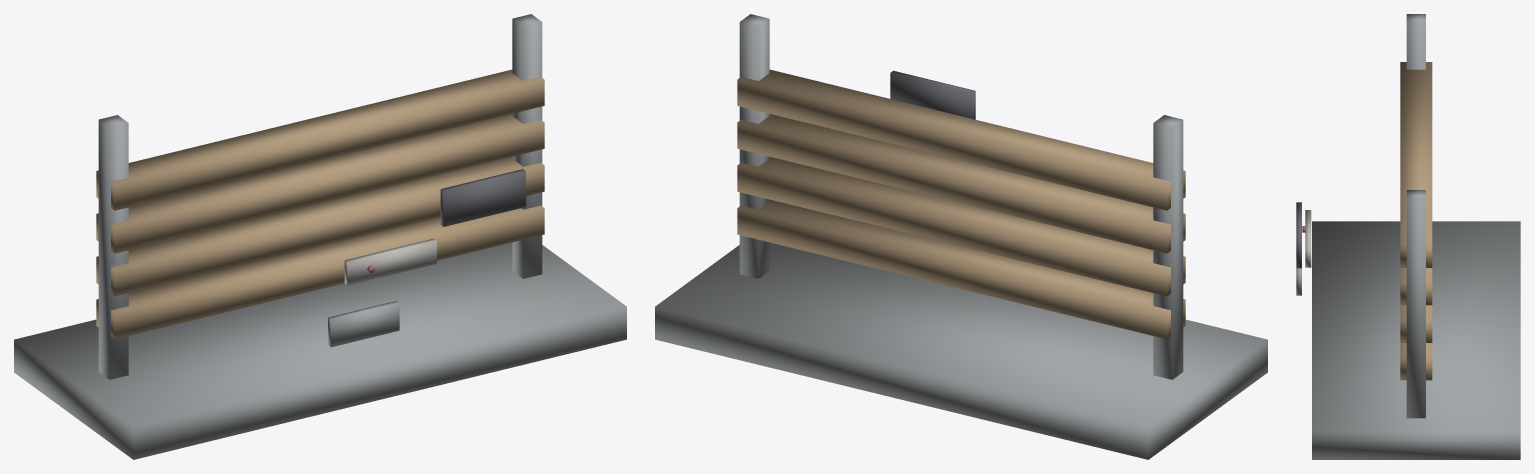
Rendered from lumber_cart__weathered.glb.
3 views of the same model, side by side, from view 1: azimuth 30°, elevation 25°; view 2: azimuth 150°, elevation 25°; view 3: azimuth 270°, elevation 25° (orthographic). The views are drawn at different scales.
Parts seen in each view (by area): view 1: world; view 2: world; view 3: world.
Boxes of the visible parts, left/top/right/bottom form: world: left=14, top=14, right=626, bottom=459; world: left=655, top=14, right=1267, bottom=459; world: left=1296, top=14, right=1520, bottom=459.
Size of the model in its own units: 1.55 by 0.8564 by 0.699.
